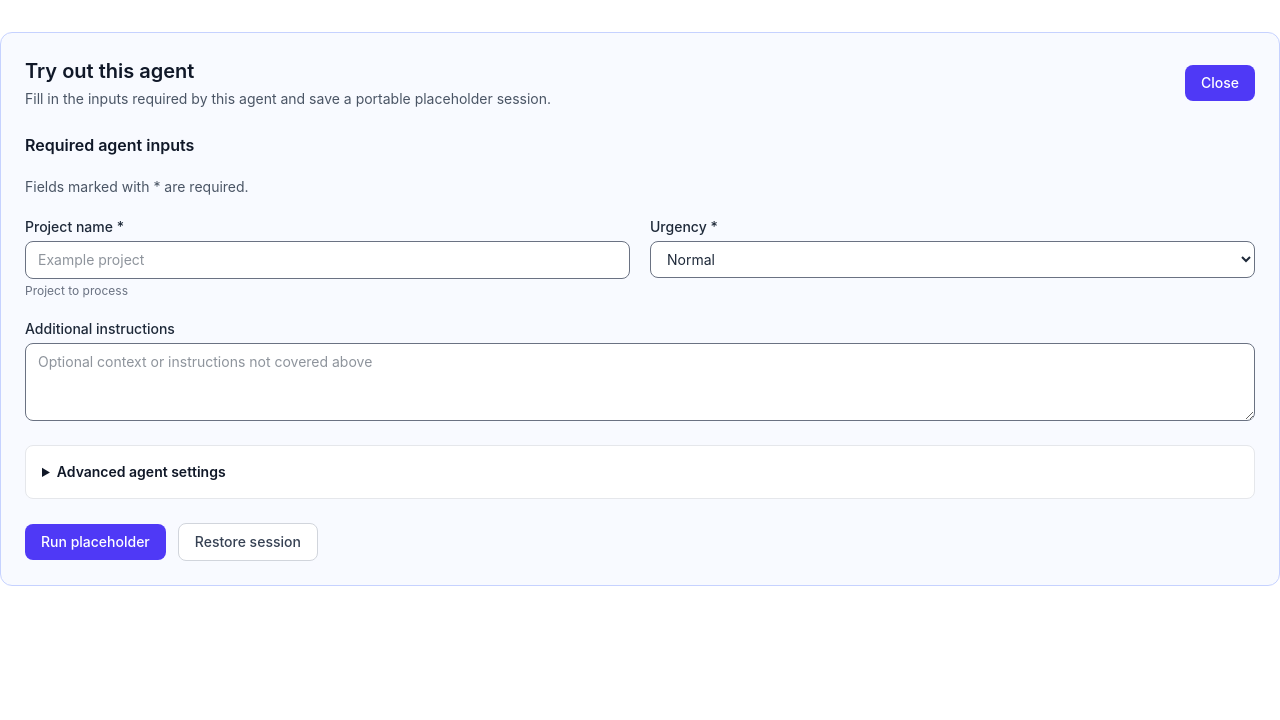
Test: TryOutPanel › submits a placeholder session and exposes its download
The width and height of the screenshot is (1280, 720).
Type "Central Office" into the field labelled "Project name" at coordinates (328, 260), box [25, 241, 630, 279]
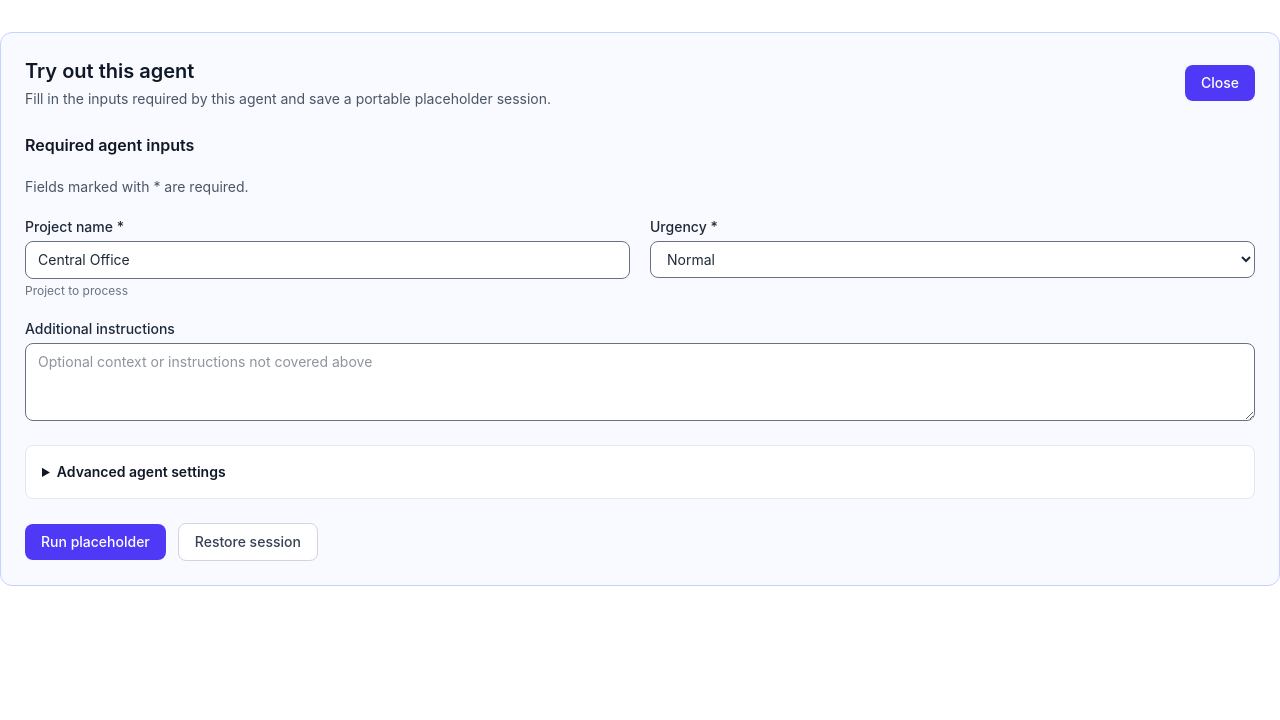
Type "Calculate this" into the text box labelled "Additional instructions" at coordinates (640, 382), box [25, 343, 1255, 421]
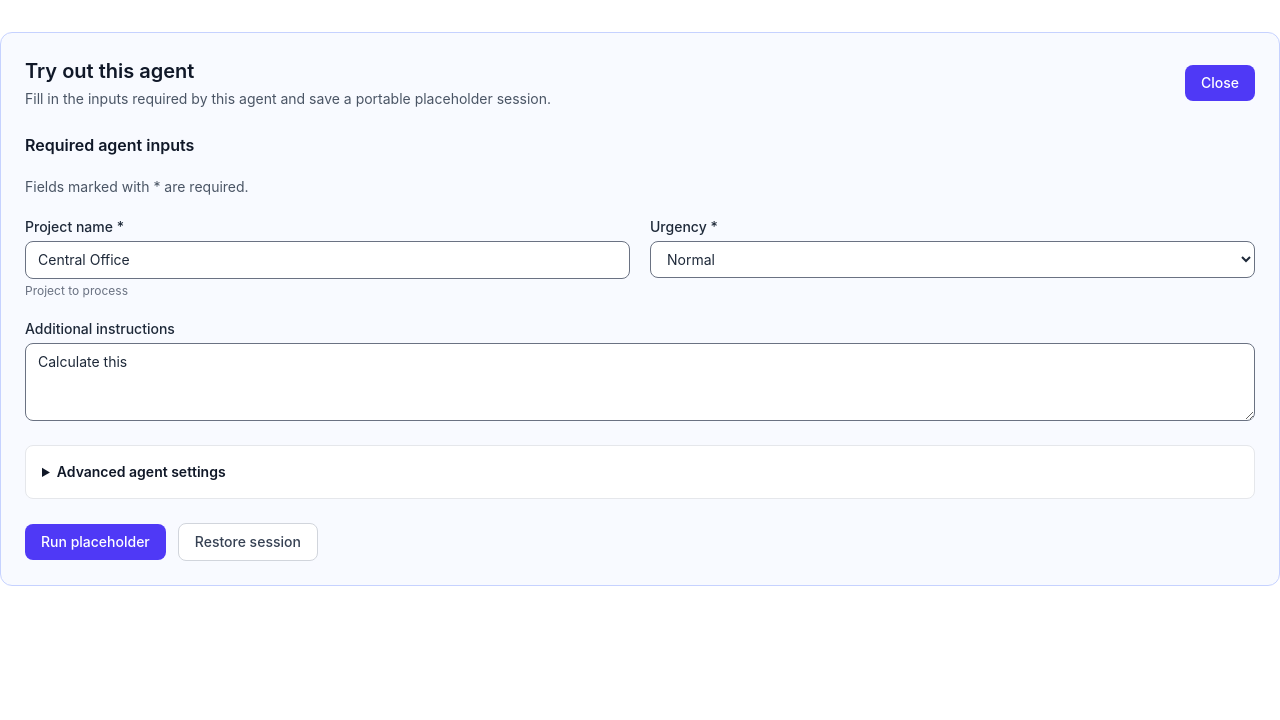
Click the button "Run placeholder" at coordinates (95, 542), box [25, 524, 166, 560]
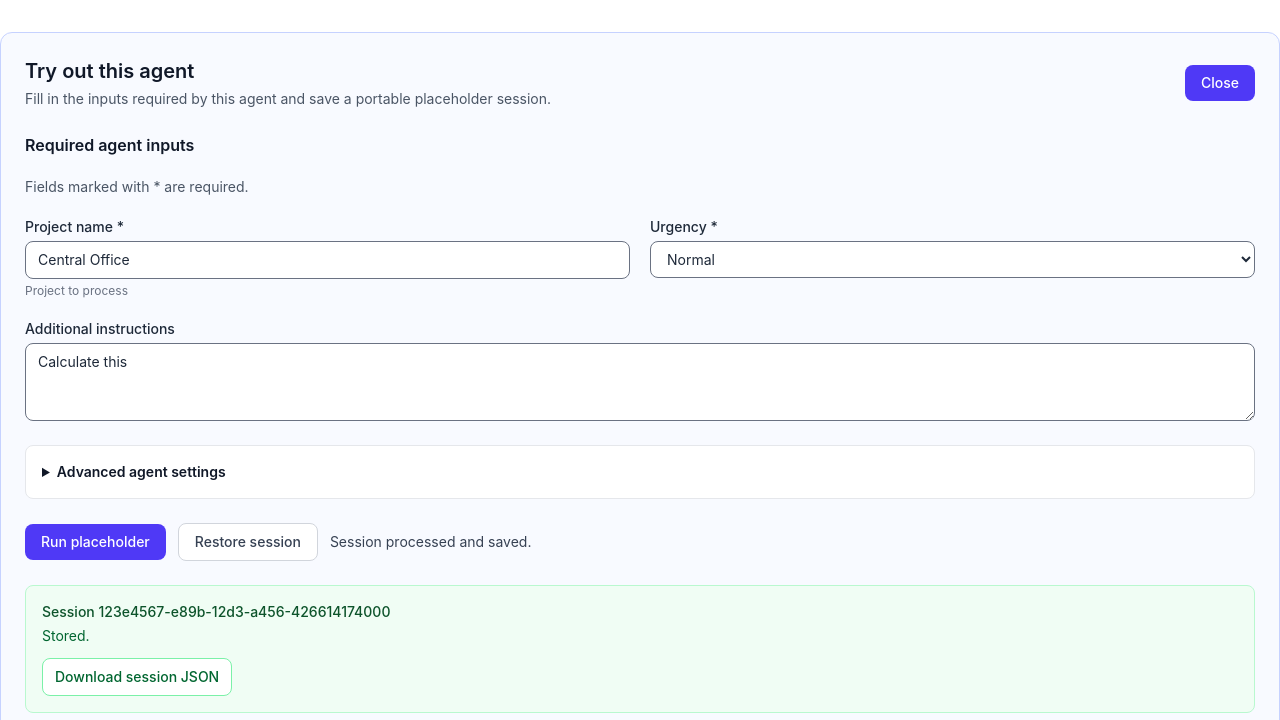
Check: the button "Download session JSON" is shown, box [42, 658, 232, 696]
